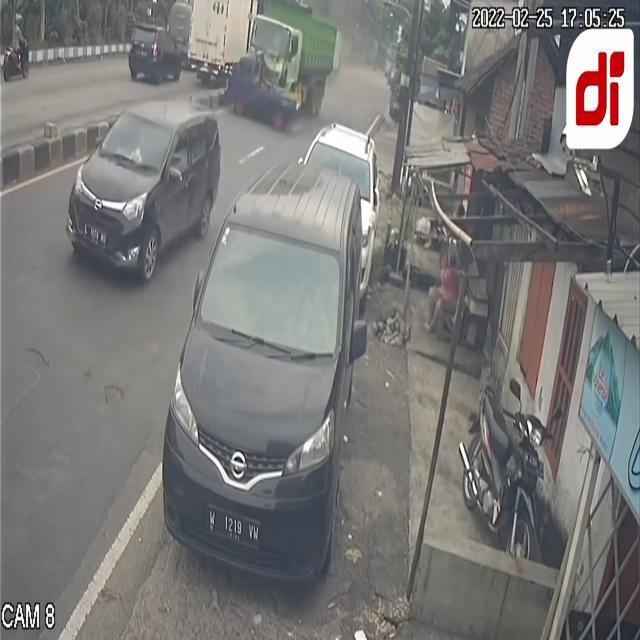multiple_accident: (108, 38, 345, 142)
normal: (47, 77, 227, 295)
